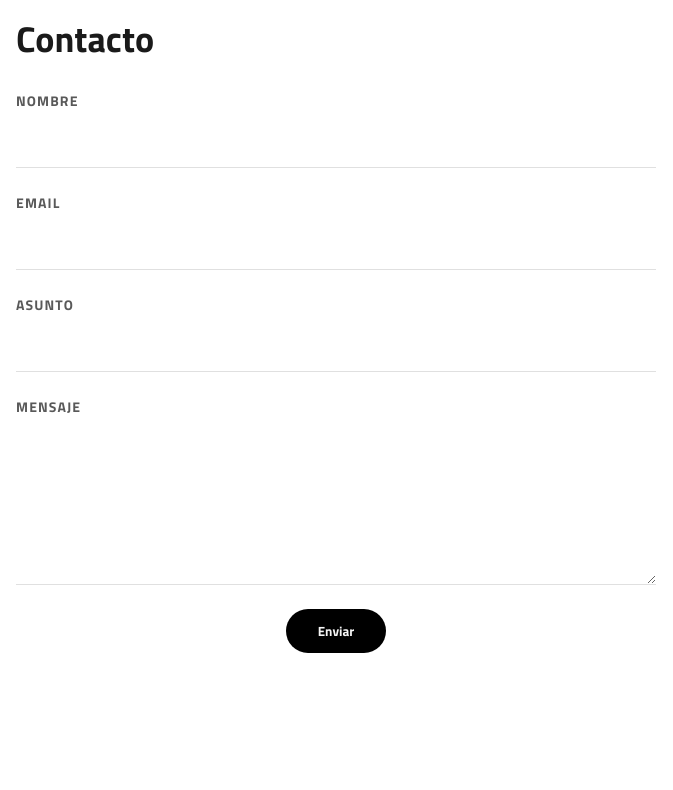
Test: ContactForm › valida los campos requeridos
Click the button "Enviar" at coordinates (336, 631), box [286,609,386,653]
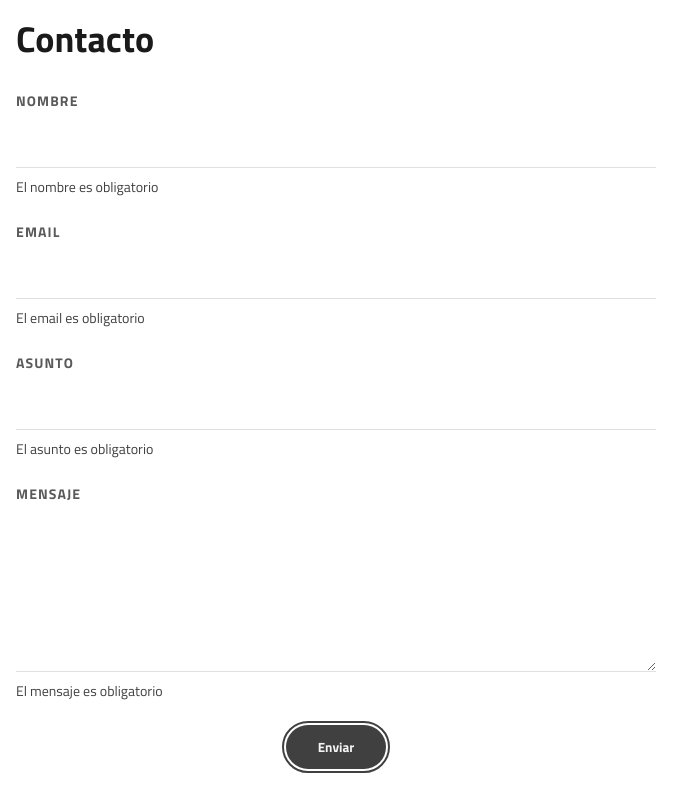
Result: the text "El nombre es obligatorio" is shown at [16,176,158,197]
Result: the text "El email es obligatorio" is shown at [16,307,145,328]
Result: the text "El asunto es obligatorio" is shown at [16,438,153,459]
